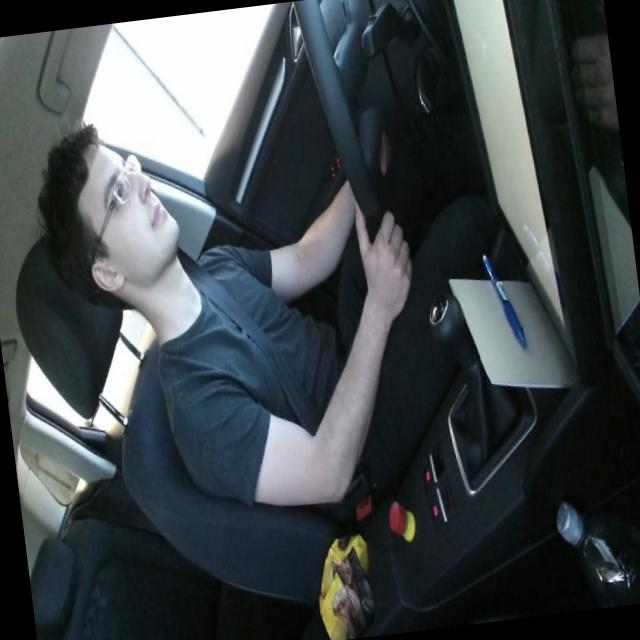pen: (480, 246, 528, 352)
